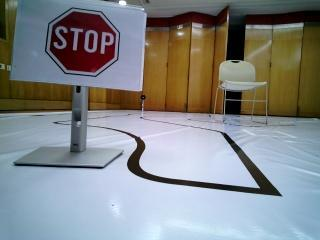stop: (31, 6, 139, 77)
